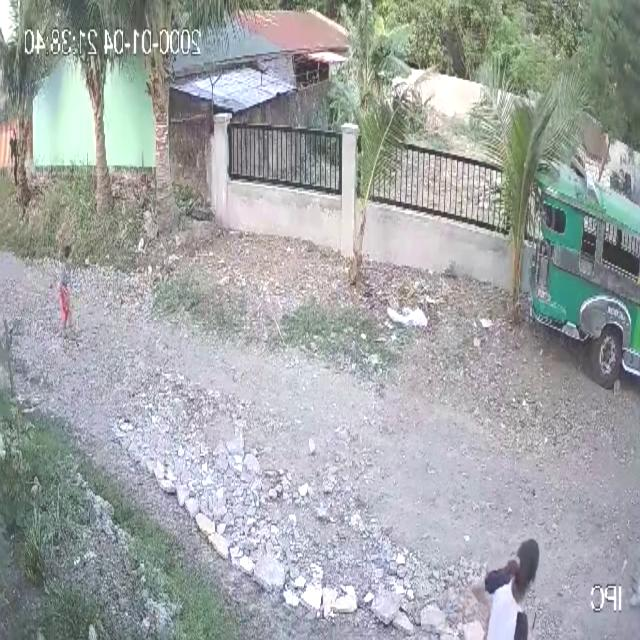walking: (460, 531, 543, 640), (54, 236, 76, 345), (10, 126, 20, 190)
